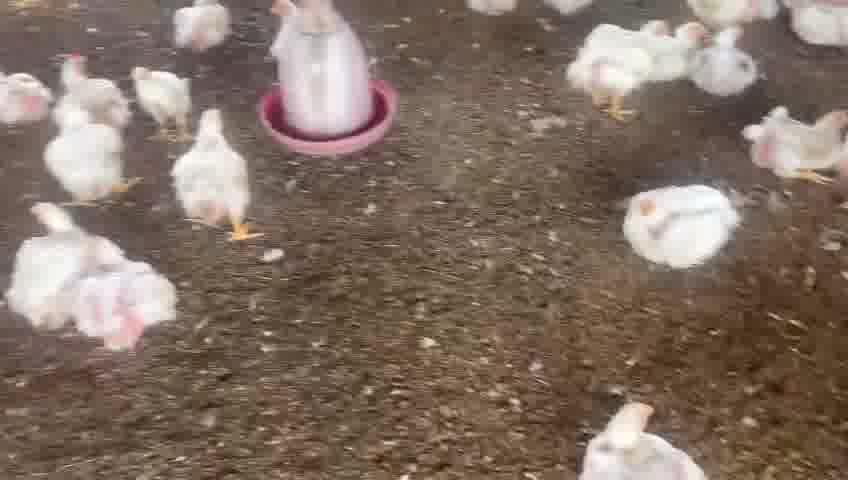Normal: (562, 392, 720, 480), (175, 109, 265, 251), (11, 198, 101, 328), (629, 174, 746, 269), (734, 91, 845, 184), (78, 259, 175, 355), (45, 103, 135, 205), (565, 17, 654, 112), (146, 0, 233, 68), (60, 48, 134, 124), (691, 31, 763, 103), (636, 6, 699, 85), (130, 60, 202, 124)
